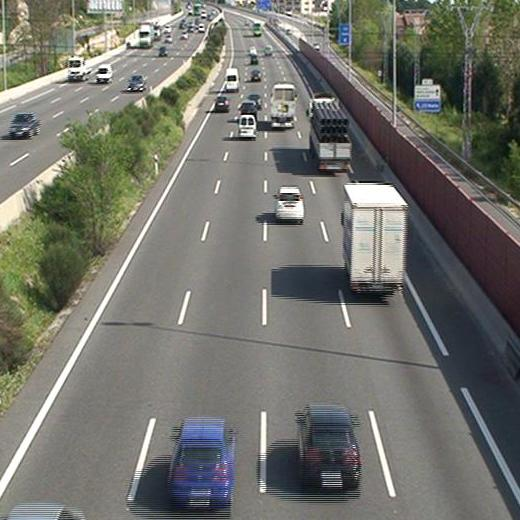car: (168, 418, 235, 508), (296, 407, 362, 488), (275, 187, 305, 219), (215, 95, 229, 111), (241, 101, 258, 114), (250, 68, 262, 81)
small-truck: (342, 183, 407, 292), (270, 85, 296, 128)
truck: (309, 95, 353, 170)
van: (237, 114, 256, 137), (225, 67, 239, 90)
